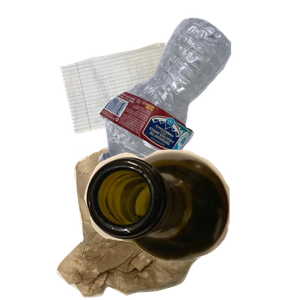glass: (82, 147, 300, 300)
paper: (56, 40, 229, 166)
plastic: (96, 15, 300, 184)
trash: (54, 147, 271, 300)
